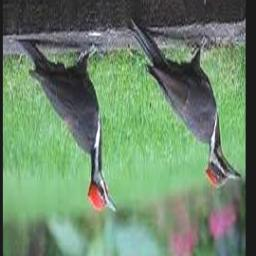Woodpecker: (128, 20, 242, 189), (18, 41, 118, 213)
